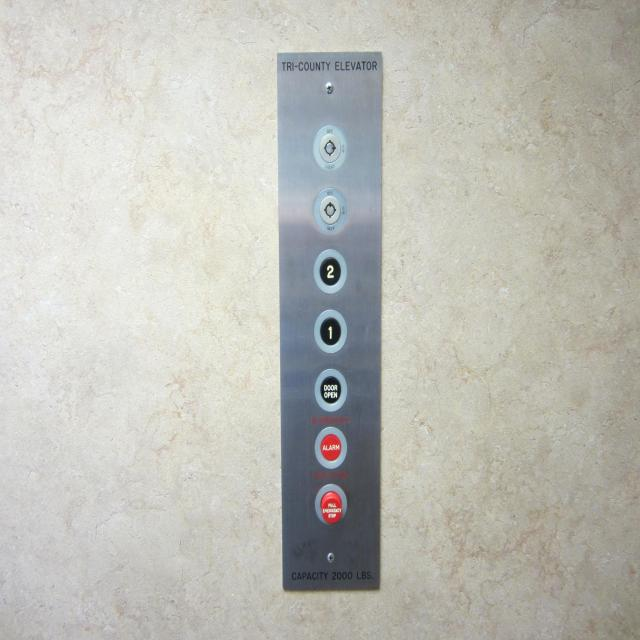1: (314, 310, 346, 354)
2: (313, 249, 347, 293)
bt_keyhole: (313, 187, 347, 233), (313, 125, 347, 170)
text_alarm bell: (314, 426, 347, 469)
text_emergency: (314, 484, 347, 525)
text_open door: (314, 368, 347, 412)
